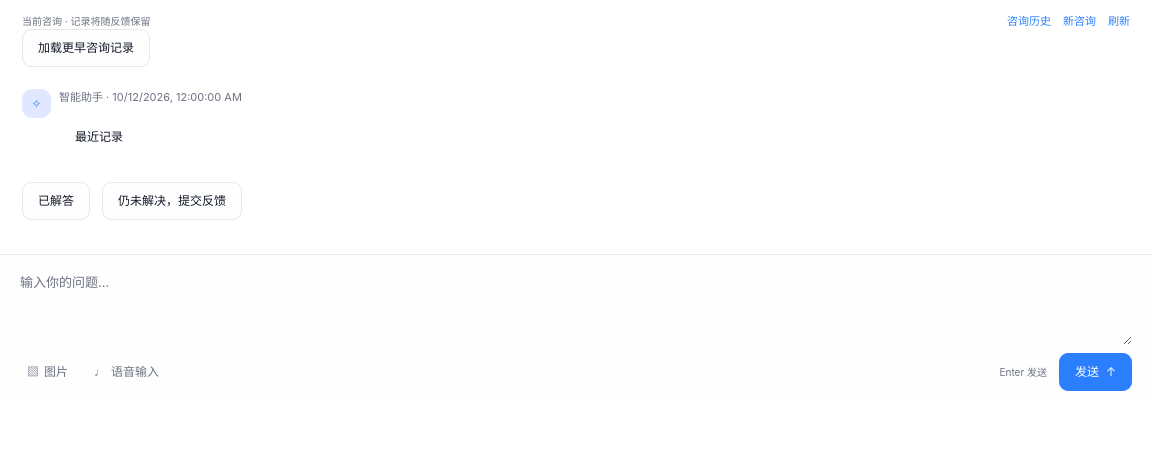
Test: consultation history continuity › loads earlier messages only on demand and retains the selected recent messages
expect the text "最近记录" is shown: met, box [75, 128, 123, 144]
Click the button "加载更早咨询记录" at x=86, y=48, box [22, 29, 150, 67]
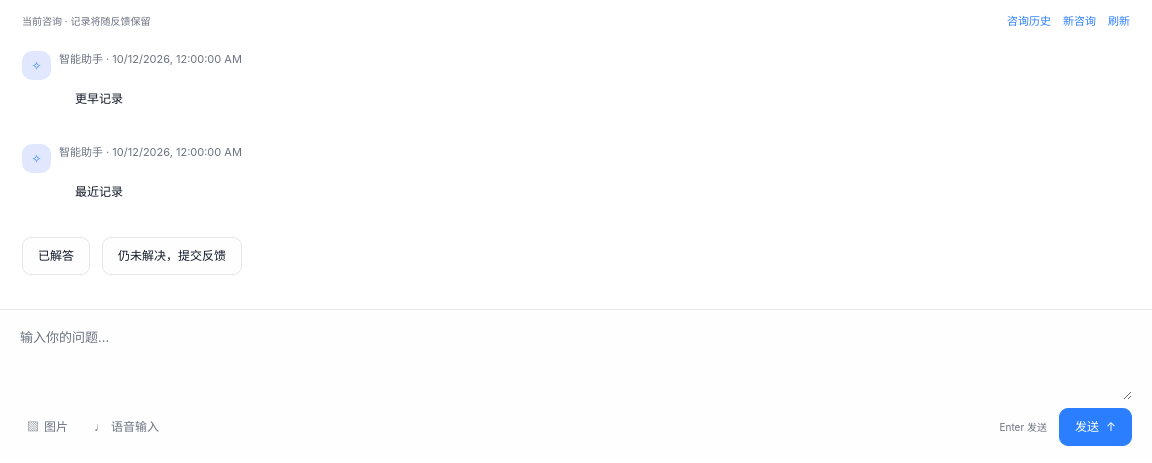
expect the text "最近记录" is shown: met, box [75, 184, 123, 199]
expect the text "更早记录" is shown: met, box [75, 90, 123, 106]
